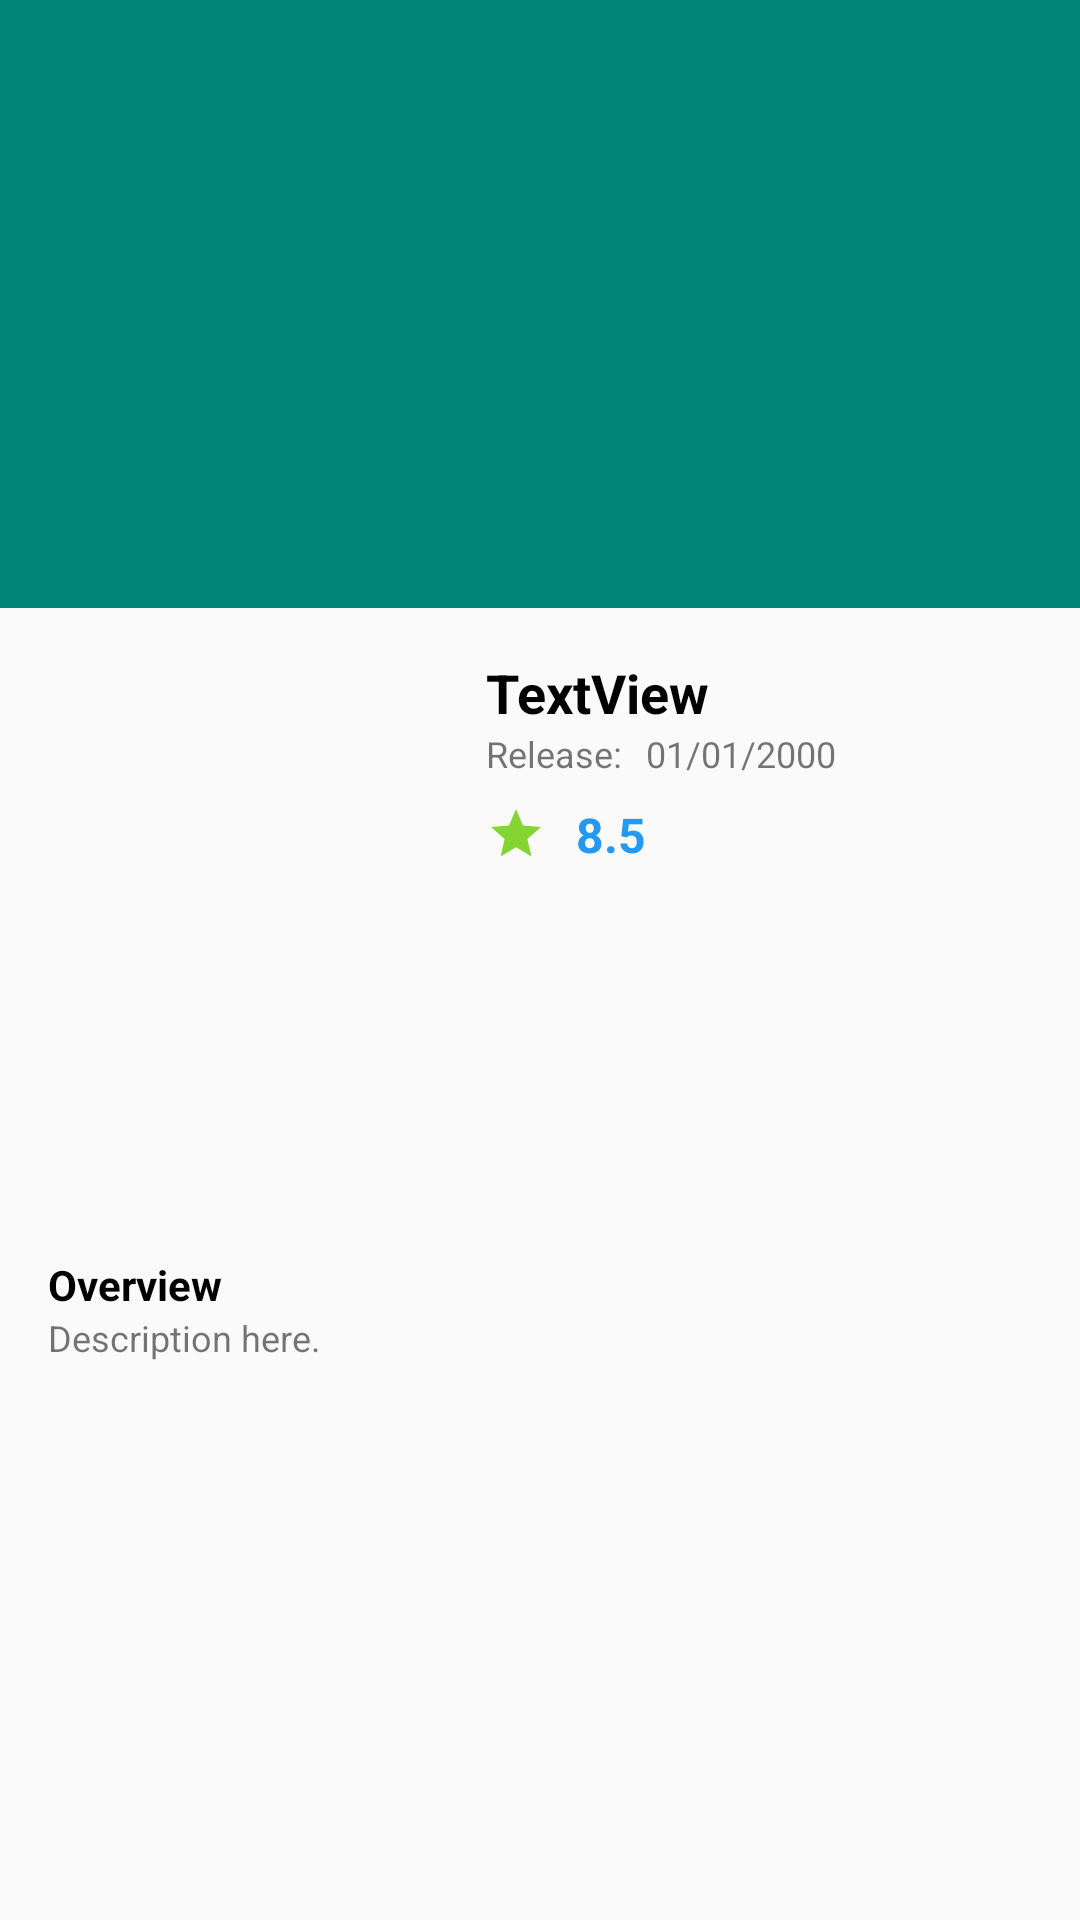

Screen size 1080w x 1920h. Icon name, then its center in pixels as (x=x, y=y):
star: (x=516, y=833)
